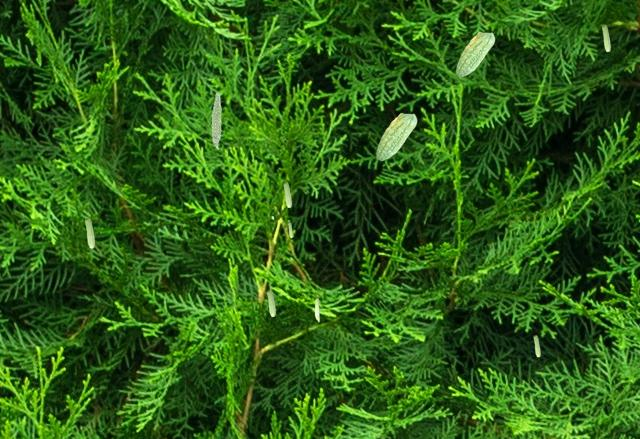ampalaya: (376, 112, 417, 161), (455, 31, 495, 77), (210, 91, 222, 149), (84, 217, 95, 248), (266, 289, 276, 317), (601, 24, 611, 52), (283, 181, 292, 208), (533, 334, 541, 357), (314, 297, 320, 322), (287, 221, 293, 238)
